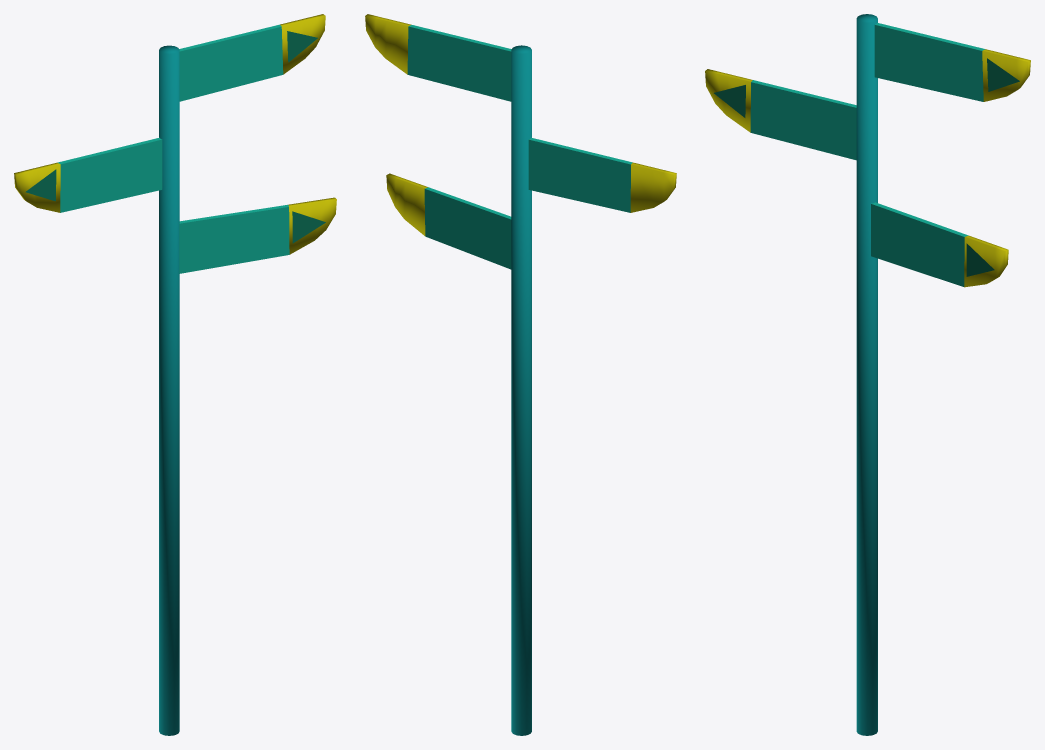
Rendered from CenarioFase1.fbx_placa.fbx.
The picture shows the model from 3 angles, left to right: view 1: azimuth 30°, elevation 25°; view 2: azimuth 150°, elevation 25°; view 3: azimuth 330°, elevation 25°; orthographic projection. The views are drawn at different scales.
Visible parts, largest first — view 1: placa; view 2: placa; view 3: placa.
Boxes of the visible parts, x1=… form: placa: x1=14, y1=14, x2=336, y2=735; placa: x1=365, y1=14, x2=676, y2=735; placa: x1=705, y1=14, x2=1030, y2=735.
Size of the model in its own units: 418 by 882 by 53.74.
